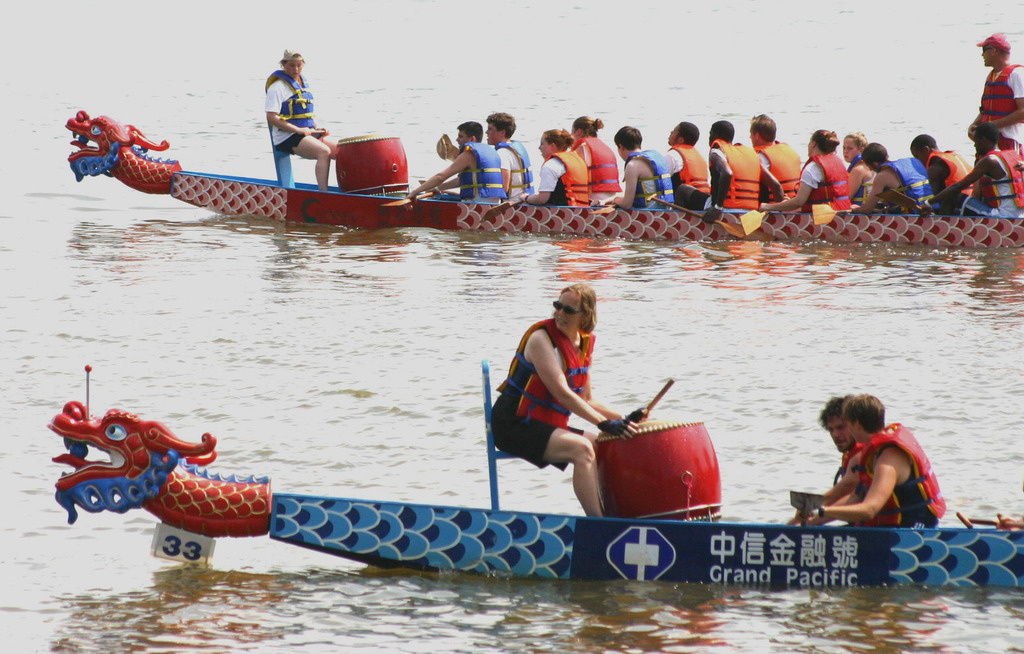Person: (264, 32, 1024, 528)
